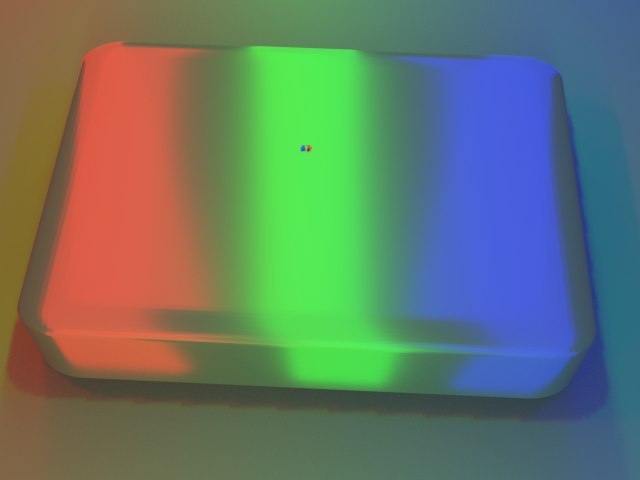dent: (290, 125, 324, 163)
